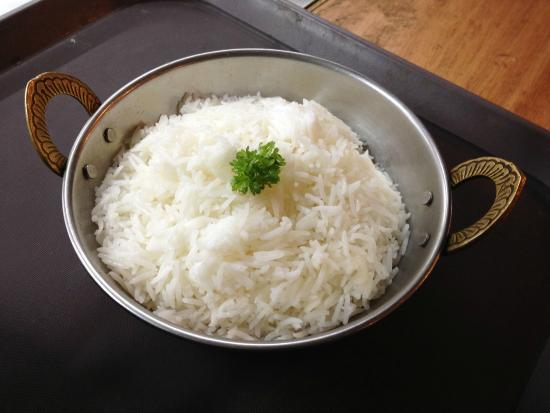plain rice: (109, 103, 399, 314)
